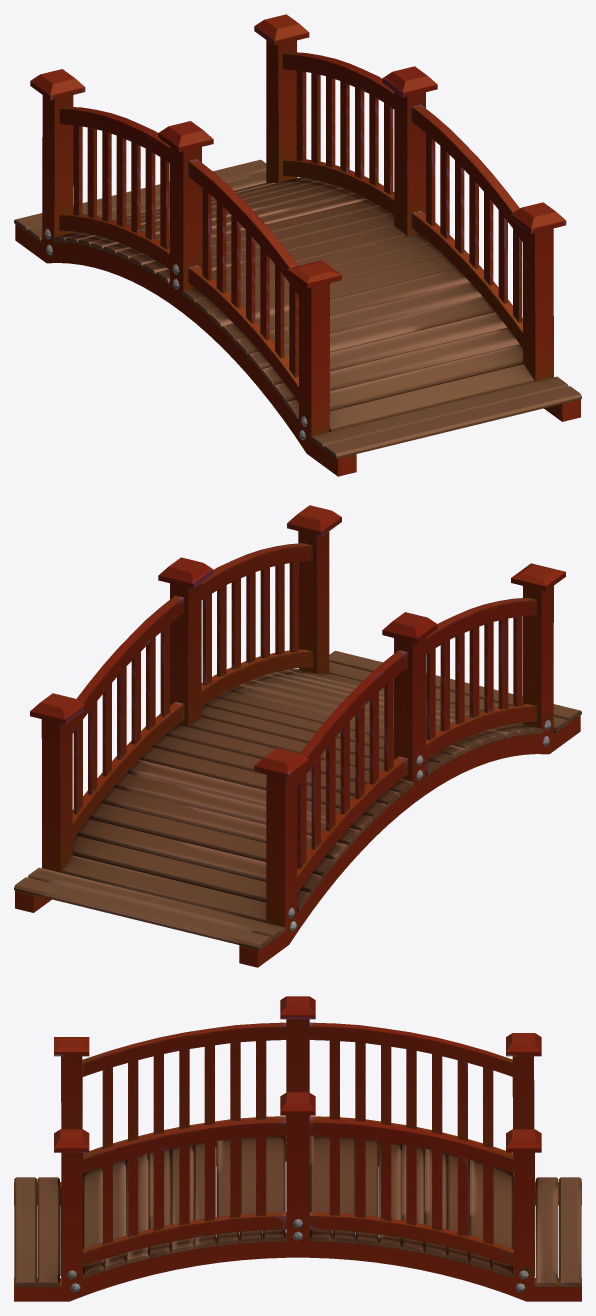
The model's file is PandaPost_Bridge.fbx.
The picture shows the model from 3 angles, top to bottom: view 1: azimuth 30°, elevation 25°; view 2: azimuth 150°, elevation 25°; view 3: azimuth 270°, elevation 25°; orthographic projection. The views are drawn at different scales.
Parts seen in each view (by area): view 1: Bridge; view 2: Bridge; view 3: Bridge.
Part boxes in pixels (box(x1,y1,x2,y2)): Bridge: box(14, 14, 581, 476); Bridge: box(14, 505, 581, 967); Bridge: box(14, 996, 581, 1301).
Bounding box in the file's own units: 556 × 468 × 1200.
